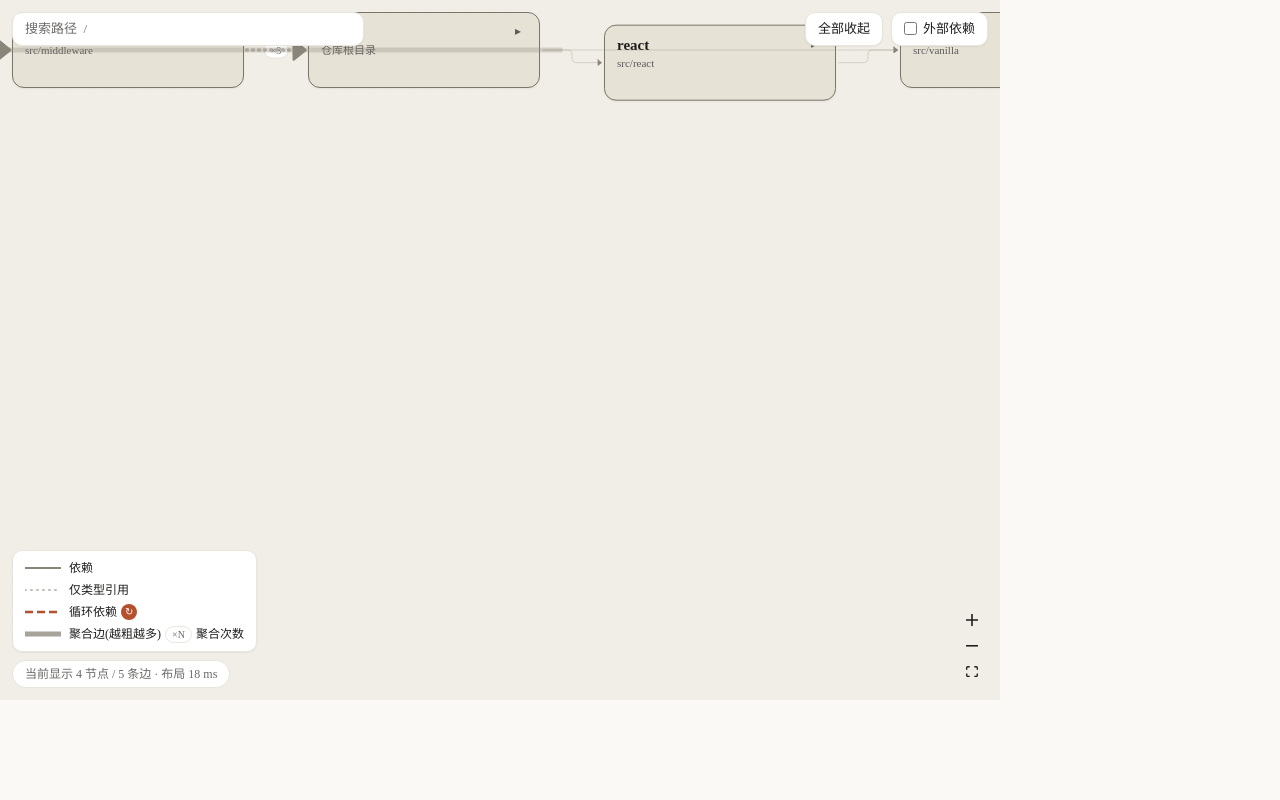
<GraphView> 交互 › 双击 module 展开(附加快捷方式)
Step 1. Double-click the element with test id "node-m:src/middleware" → (128, 50), box [12,12,244,88]
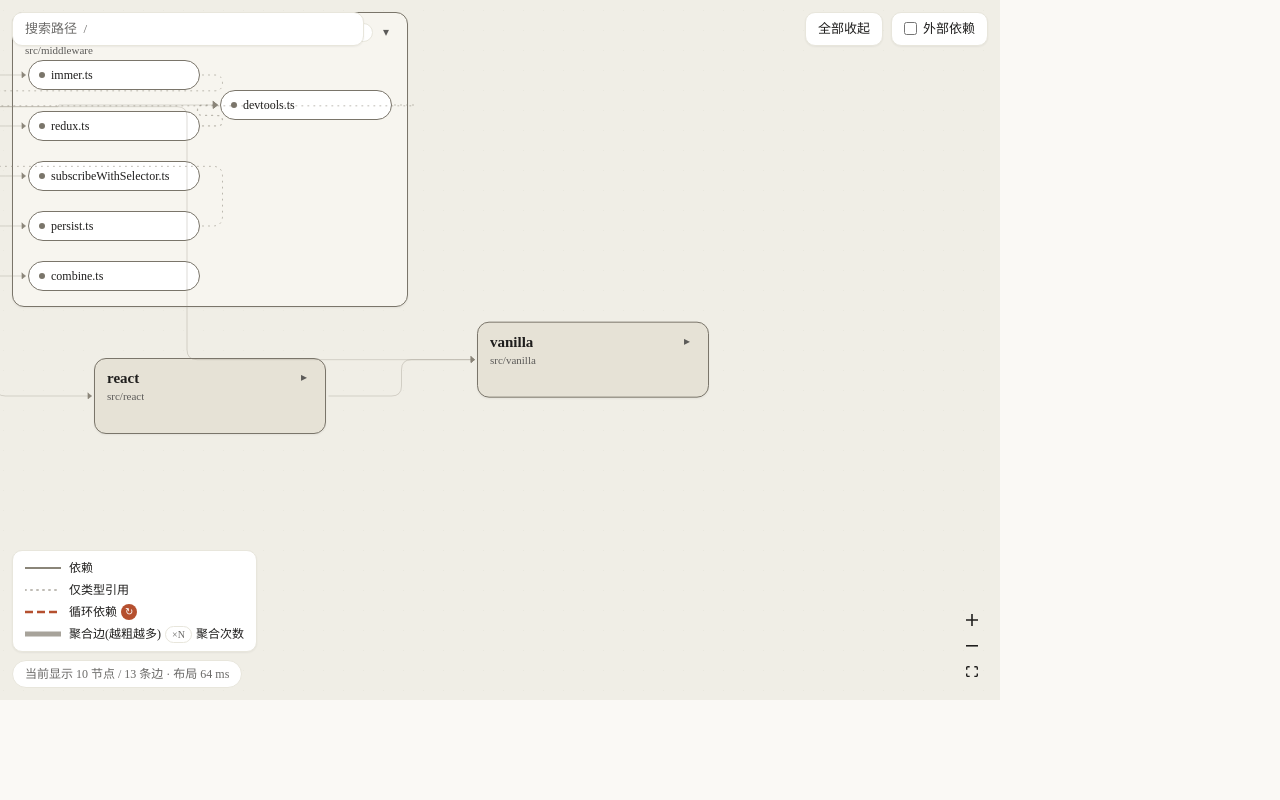
expect the element with test id "node-f:src/middleware/" is shown: met, box [28,261,200,291]
